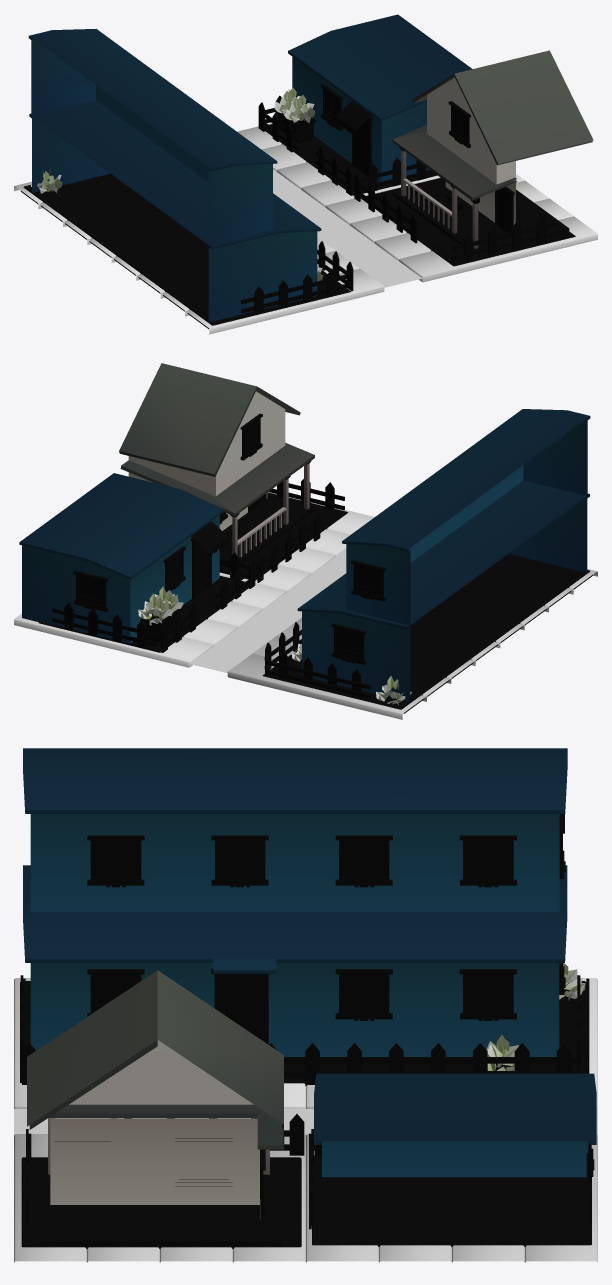
Rendered from SM_ER_module13.fbx.
3 renders of one model, top to bottom at view 1: azimuth 30°, elevation 25°; view 2: azimuth 150°, elevation 25°; view 3: azimuth 270°, elevation 25°, orthographic. The views are drawn at different scales.
Parts seen in each view (by area): view 1: SM_ER_module13_walls, SM_ER_floor1, SM_ER_floor; view 2: SM_ER_module13_walls, SM_ER_floor, SM_ER_floor1; view 3: SM_ER_module13_walls, SM_ER_floor1, SM_ER_floor.
Boxes of the visible parts, bbox=[...] form: SM_ER_module13_walls: bbox=[20, 14, 593, 328]; SM_ER_floor1: bbox=[112, 174, 597, 334]; SM_ER_floor: bbox=[14, 123, 439, 262]; SM_ER_module13_walls: bbox=[19, 363, 593, 713]; SM_ER_floor: bbox=[14, 574, 499, 719]; SM_ER_floor1: bbox=[219, 492, 597, 648]; SM_ER_module13_walls: bbox=[20, 748, 596, 1248]; SM_ER_floor1: bbox=[14, 978, 305, 1262]; SM_ER_floor: bbox=[306, 978, 597, 1262].
Bounding box in the file's own units: 4128 × 1656 × 3596.
